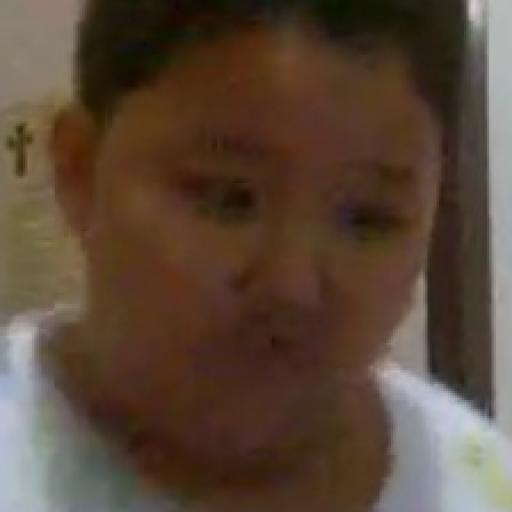Autism: (52, 0, 404, 502)
